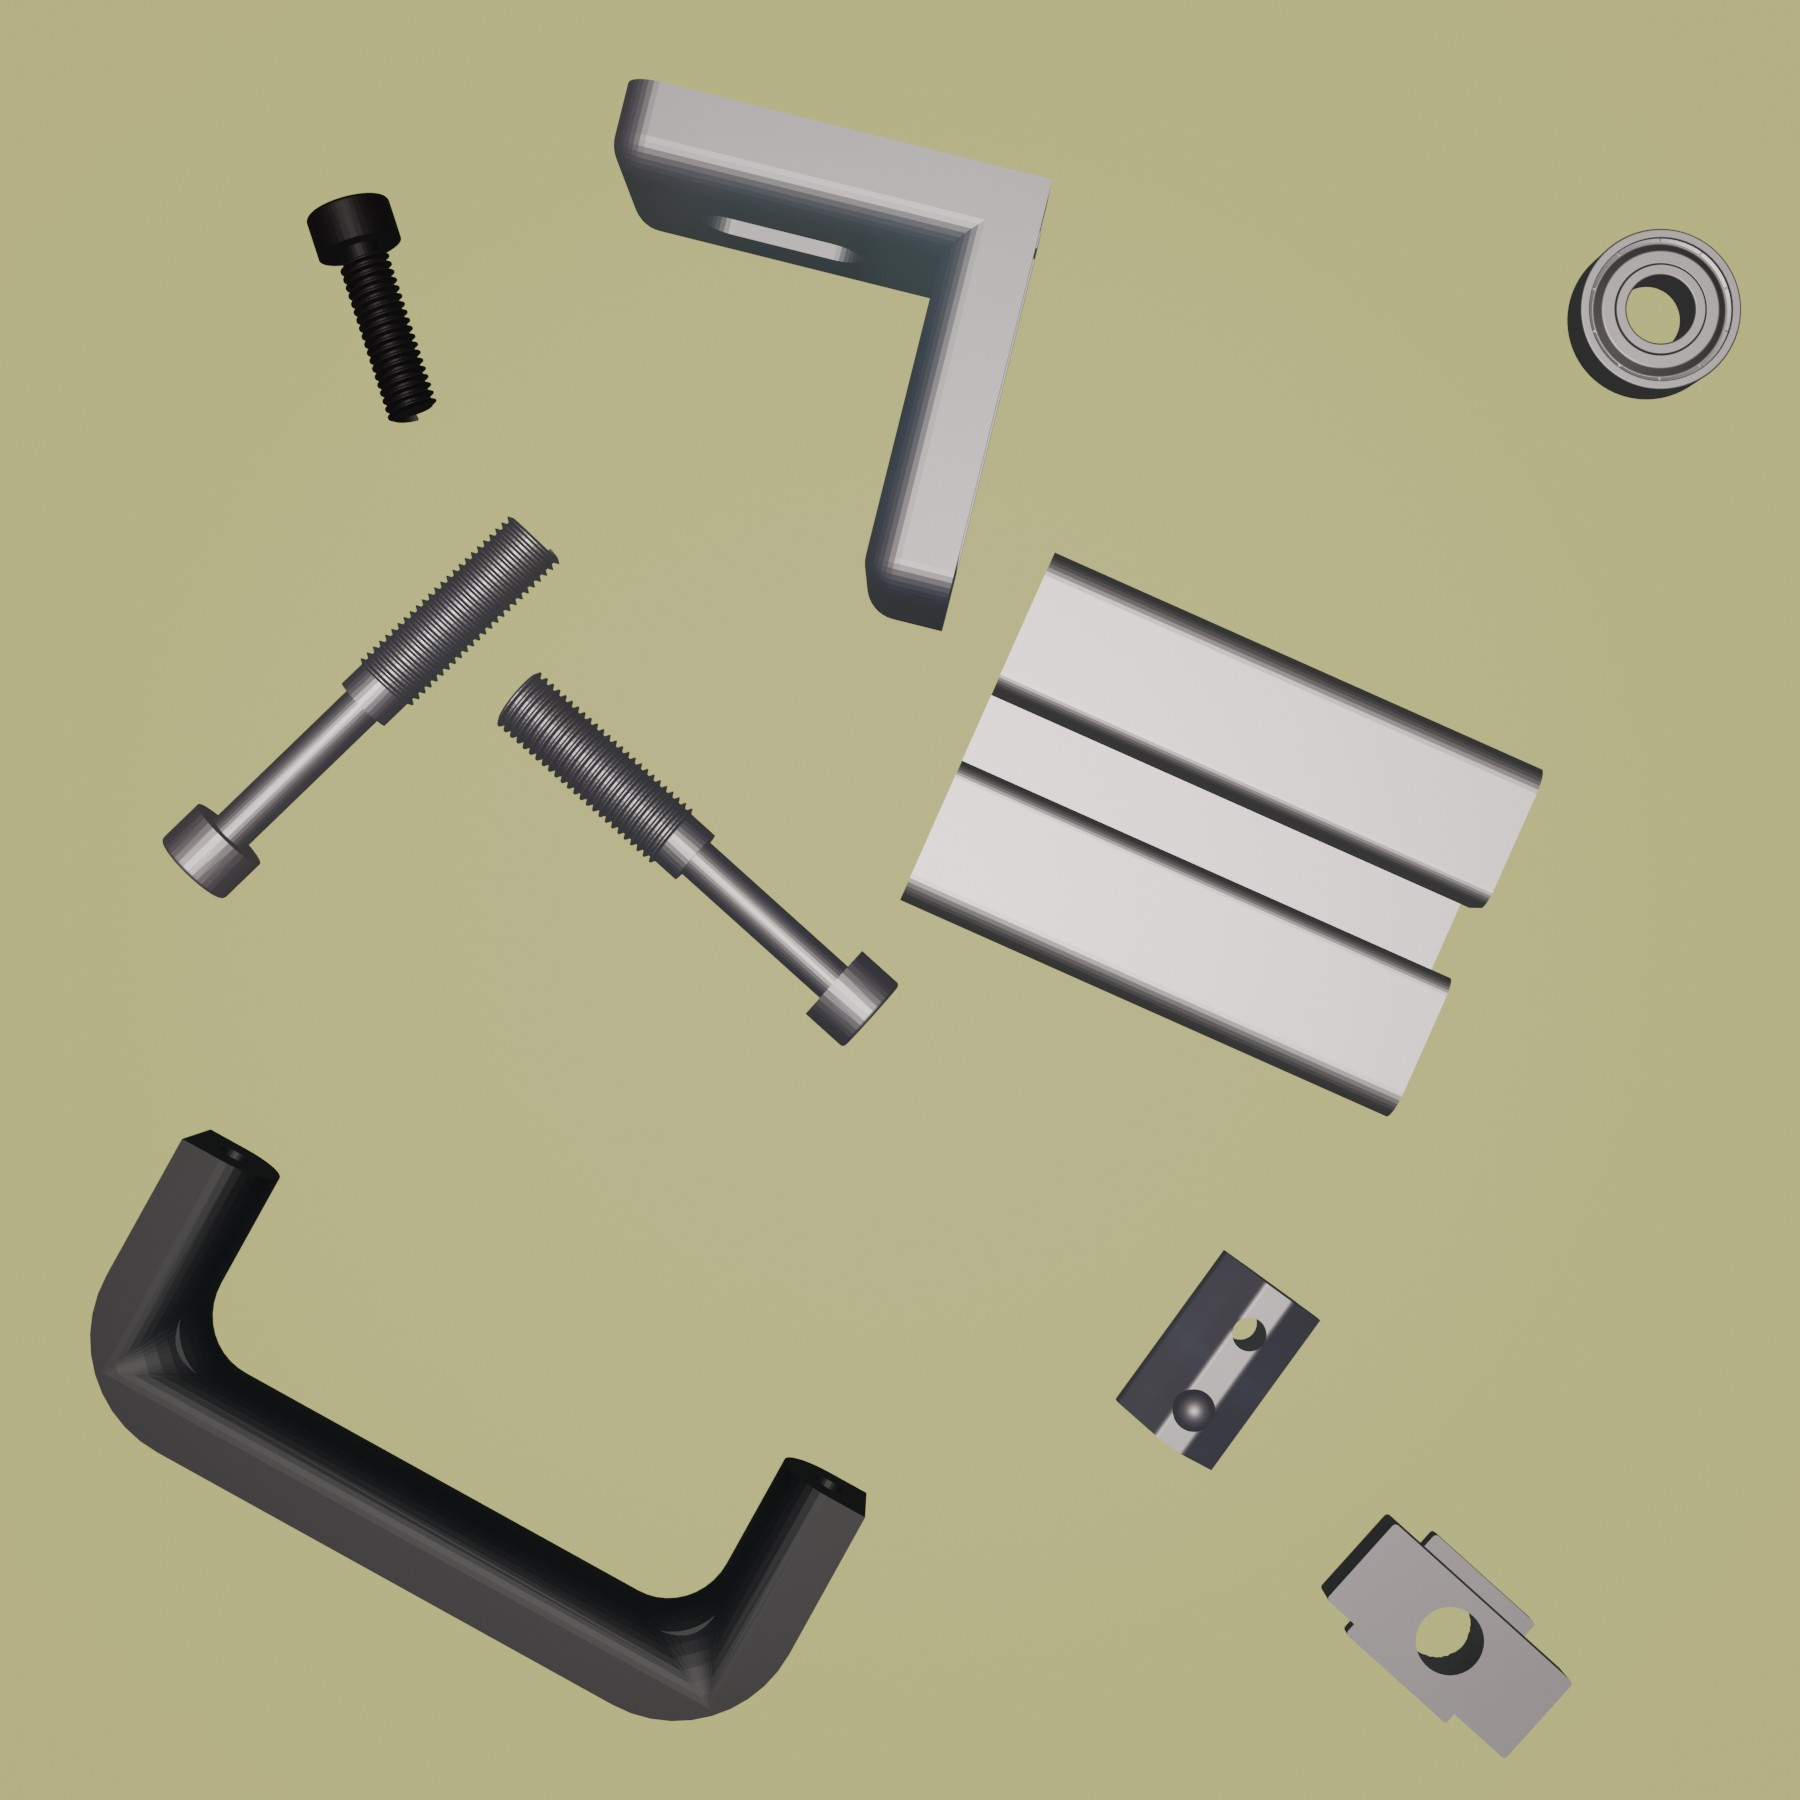Aluminium Extension: (898, 551, 1545, 1118)
Ball Bearing: (1564, 226, 1742, 401)
Multiwinkel: (612, 77, 1058, 635)
Pull Handle: (89, 1127, 867, 1724)
Shoulder Socket Head Cap Screw: (162, 514, 562, 902), (493, 673, 900, 1048)
Socket Head Cap Screw: (303, 191, 437, 427)
T Nut Square: (1315, 1512, 1576, 1765)
T Spring Nut: (1114, 1248, 1320, 1470)
